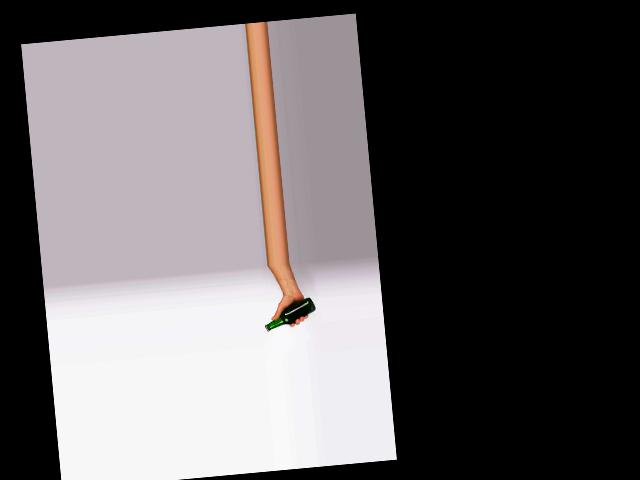beer: (262, 296, 317, 331)
